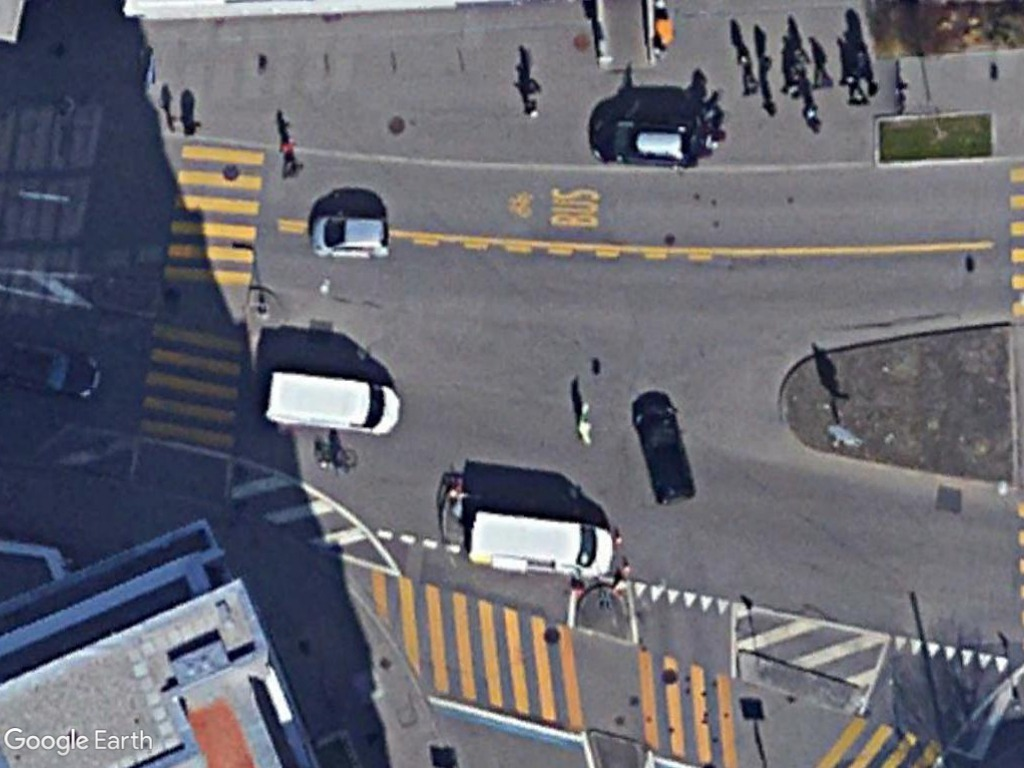car: (306, 211, 396, 263)
van: (464, 508, 618, 581), (258, 367, 407, 441)
